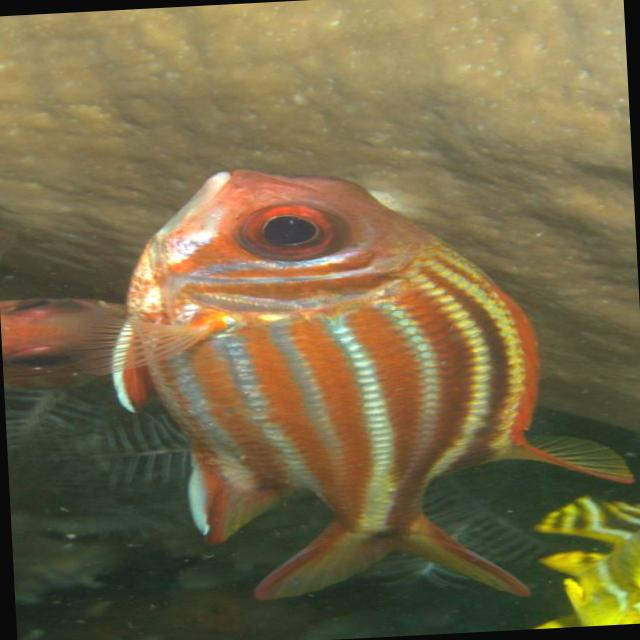Asker Baligi: (93, 145, 640, 620)
